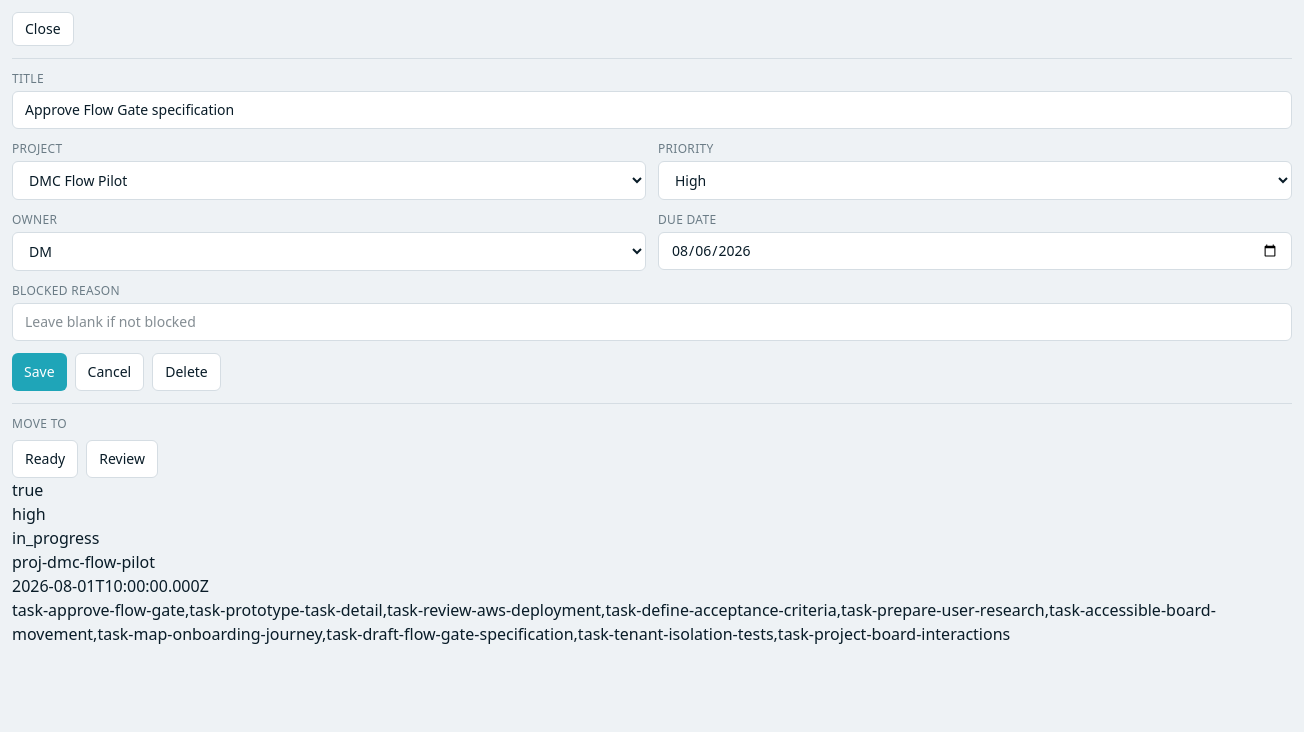
Test case: TaskEditor › sets a blocked reason on save
Expected: the text with test id "hydrated" reads "true", [12,479,43,501]
Type "Waiting on decision" into the field labelled "Blocked reason" at coordinates (652, 322), box [12,303,1292,341]
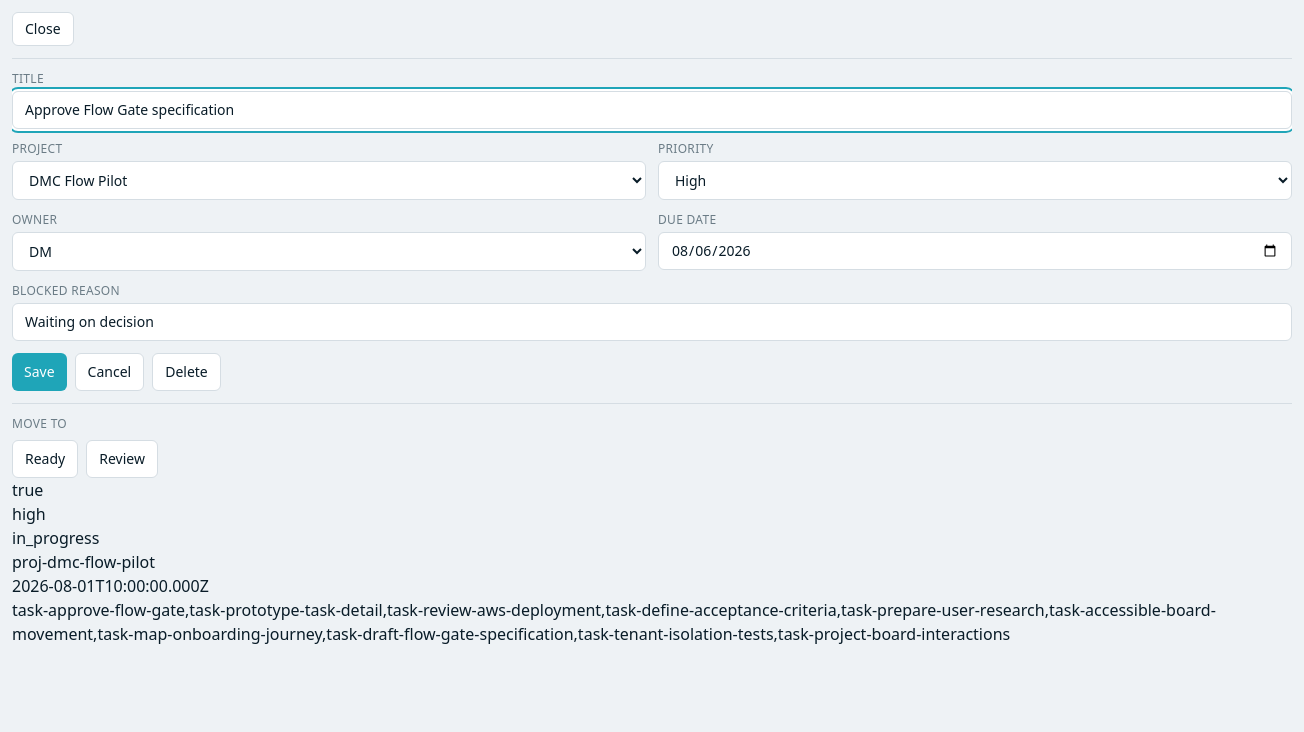
Click the button "Save" at coordinates (39, 372), box [12,353,67,391]
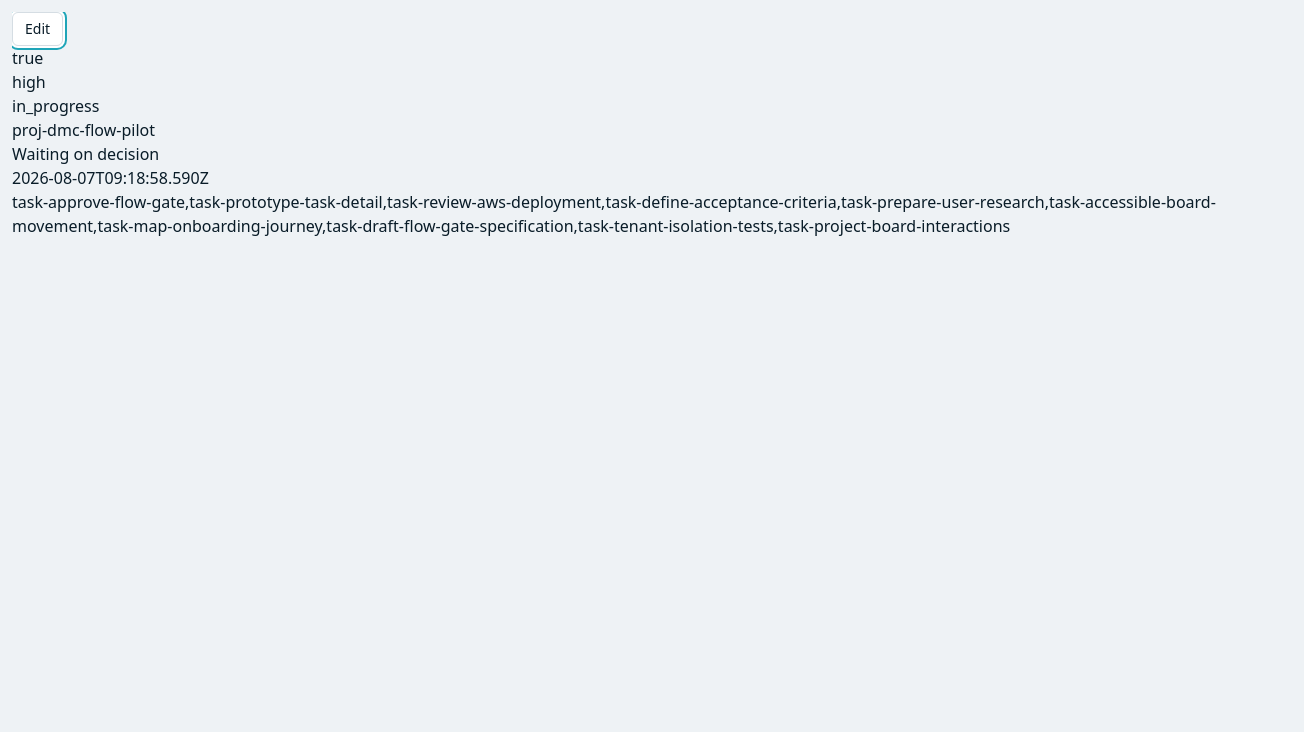
Now the text with test id "blocked" reads "Waiting on decision", box [12,143,159,165]
